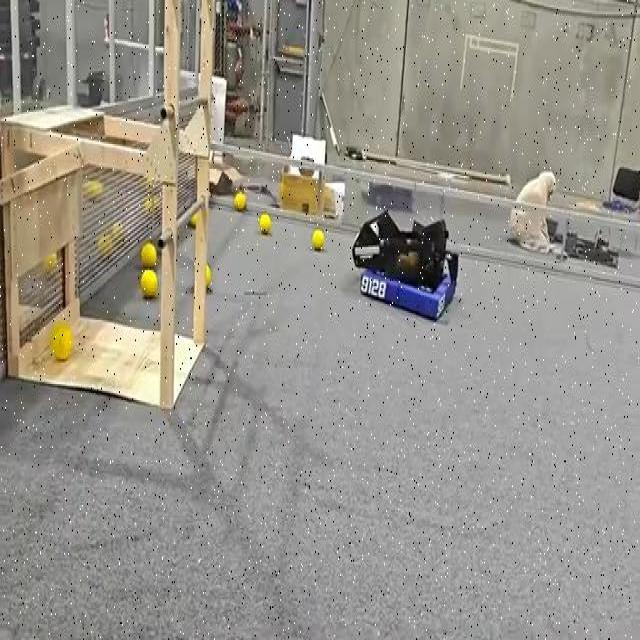Fuel: (50, 324, 72, 359), (140, 269, 158, 298), (140, 268, 157, 297), (97, 231, 113, 257), (140, 242, 156, 266), (84, 180, 102, 198), (42, 252, 58, 272), (98, 233, 112, 254), (311, 229, 324, 251), (233, 190, 246, 210), (259, 213, 271, 234), (258, 213, 270, 233), (111, 222, 123, 242), (234, 191, 246, 211), (143, 196, 155, 213), (143, 196, 153, 212), (188, 212, 198, 228), (205, 265, 211, 284), (189, 214, 197, 228)
